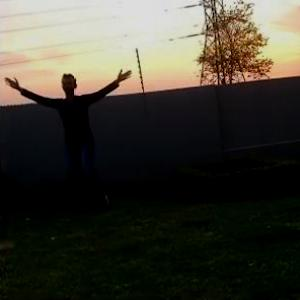takeoff: (19, 73, 133, 200)
